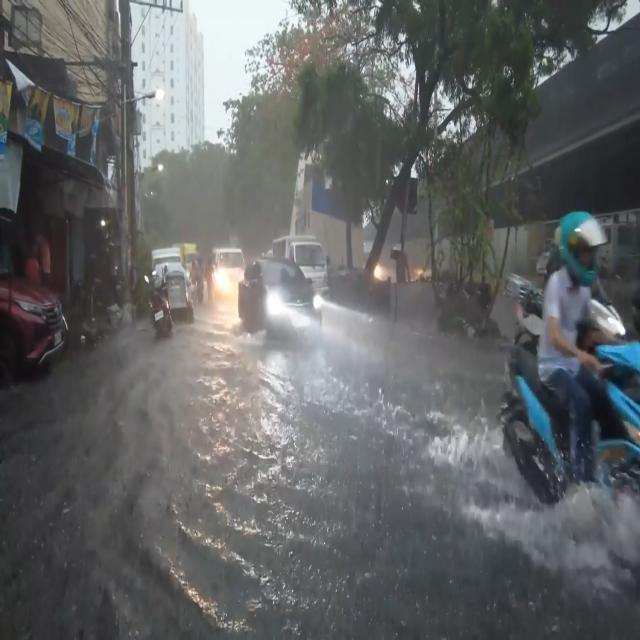full: (556, 207, 608, 285)
